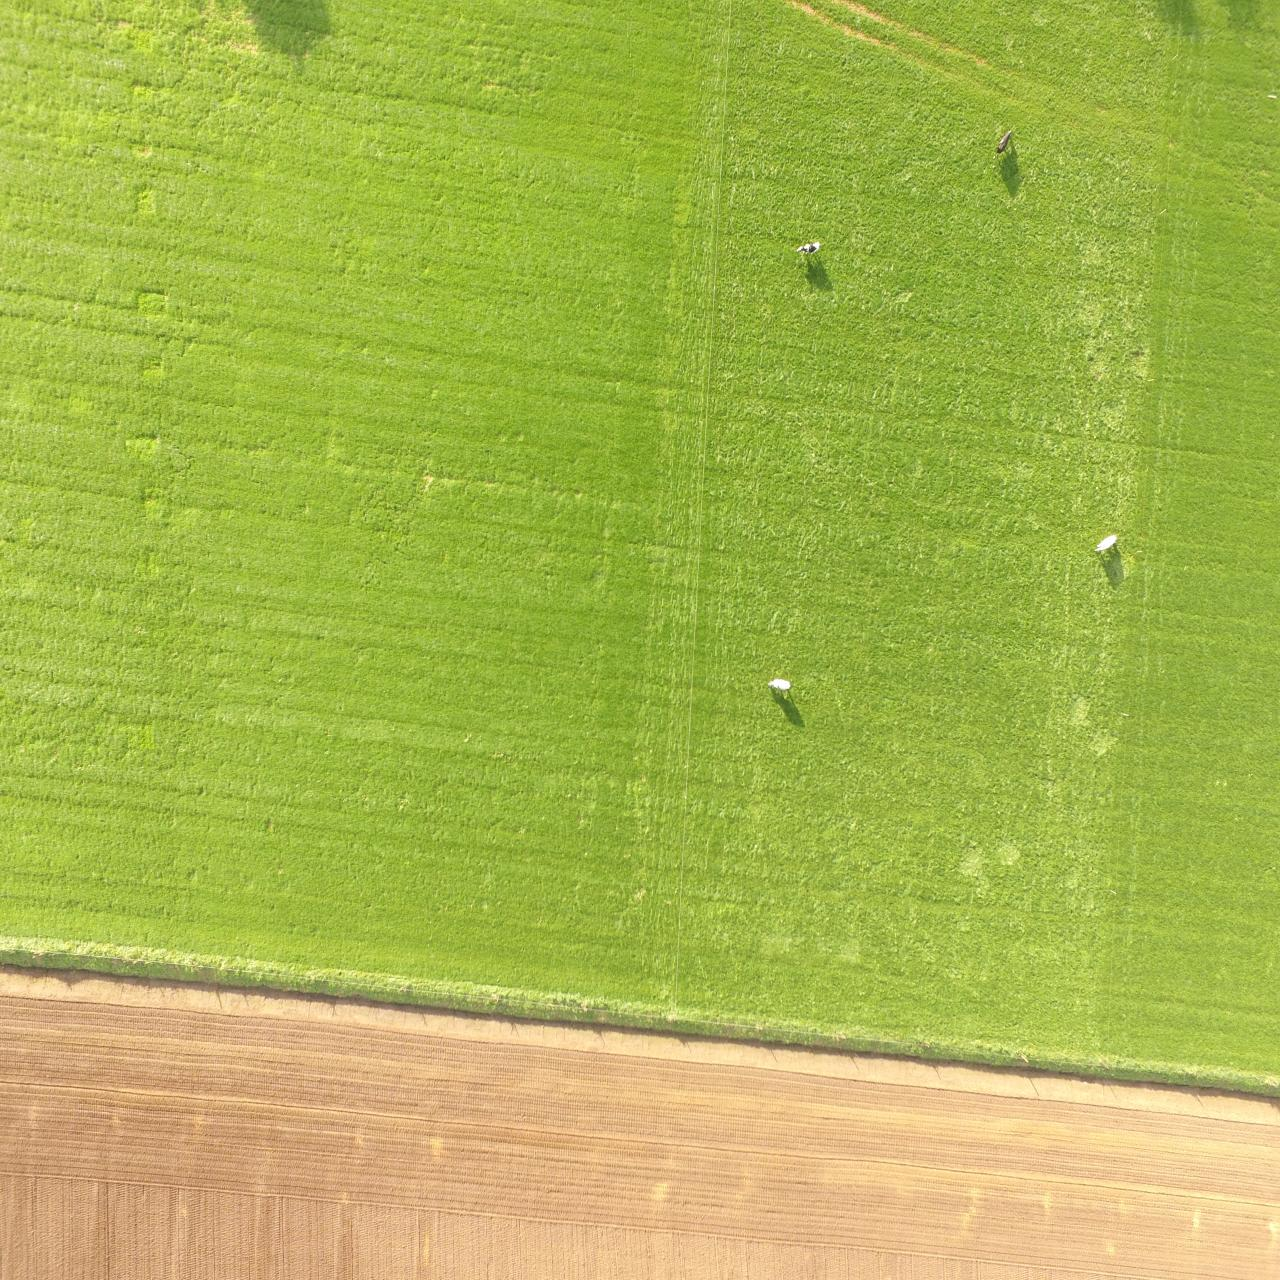cow: (992, 129, 1013, 159), (1094, 532, 1118, 551), (796, 240, 821, 256), (768, 678, 791, 692)
